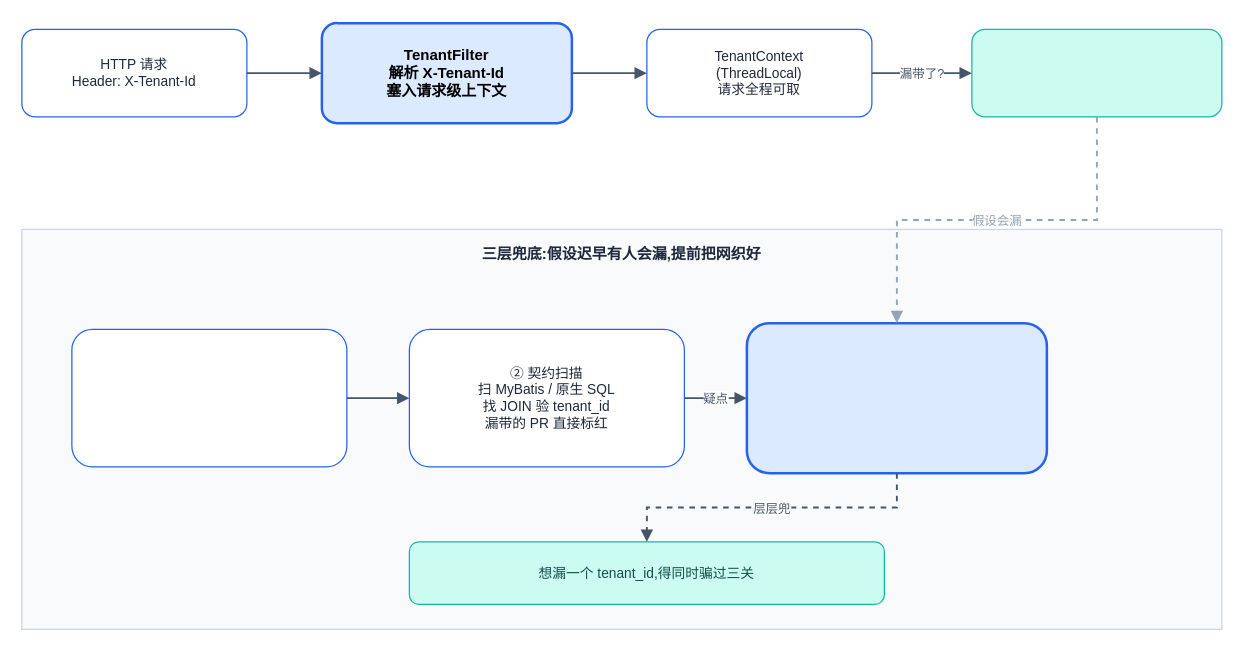
This 1244x651 diagram has some shape labels left out. The shapes that lost their labels are listed below. From the top down, each one's centre as x and y in pixels, then its label:
At pixel 1096 72: "业务 SQL 必须带 tenant_id 条件 (含每个 JOIN)".
At pixel 209 397: "① SQL 审查清单 每个 JOIN 必带 a.tenant_id = b.tenant_id 评审逐条过,不凭感觉".
At pixel 896 397: "③ 评审回路(枢纽) 扫描器喂疑点给评审 Agent Agent 逐条判漏带/豁免/存疑 人对存疑做最终拍板".
